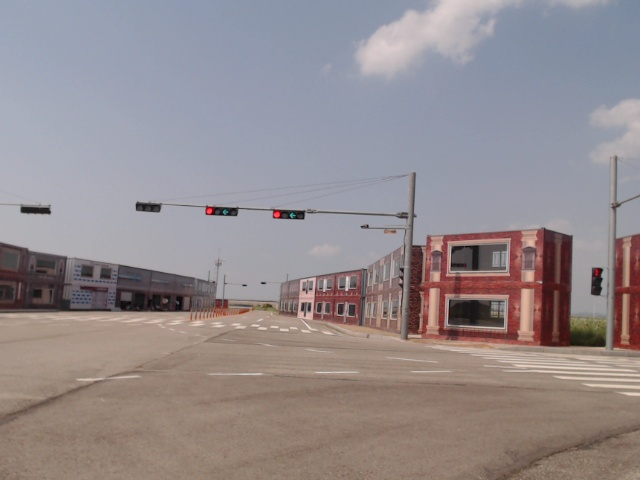left_green_4: (205, 206, 237, 217), (274, 210, 305, 220)
